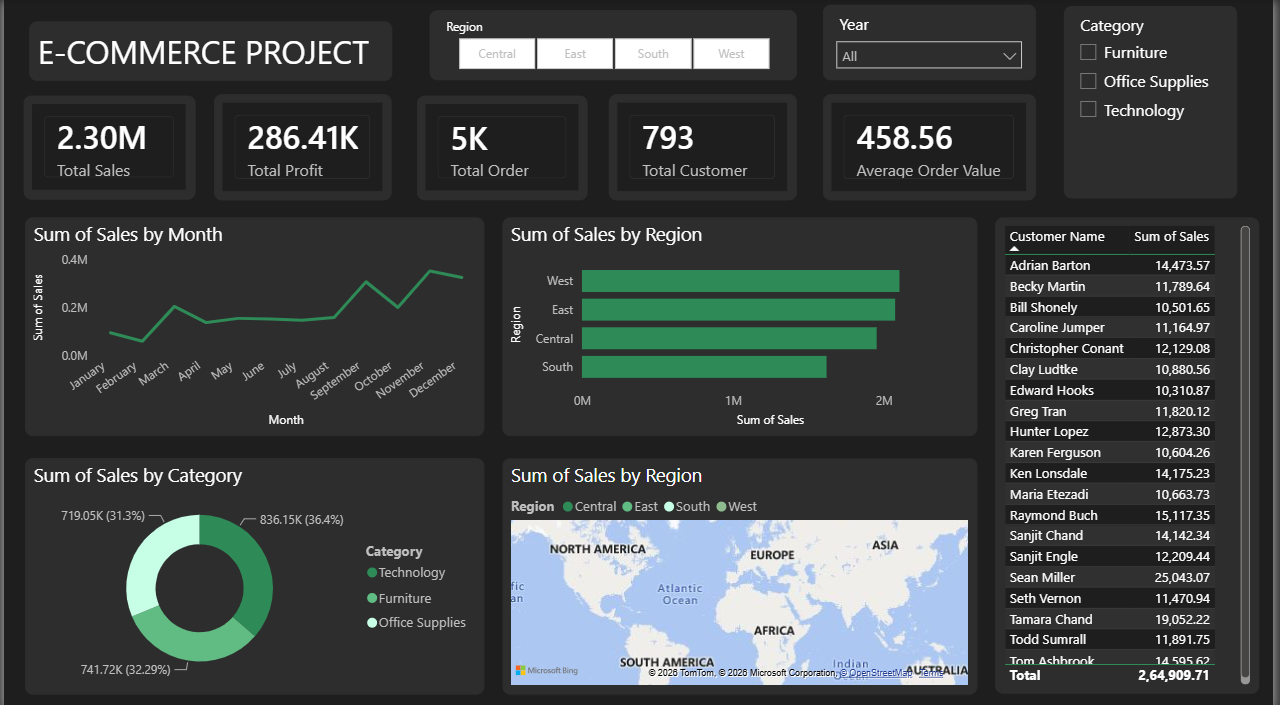

This screenshot's page, from the dashboard's own definition file:
{"tool":"powerbi","page":{"name":"Executive Overview","canvas":[1280,720],"ordinal":0},"visuals":[{"type":"cardVisual","fields":{"Data":["OrderTable.Total Sales"]},"box":[20.1,97.6,173.7,104.8],"z":0},{"type":"textbox","box":[25,22.1,366.2,60.3],"z":1},{"type":"cardVisual","fields":{"Data":["OrderTable.Total Profit"]},"box":[211.8,95.6,179.4,107.4],"z":2},{"type":"cardVisual","fields":{"Data":["OrderTable.Total Order"]},"box":[416.2,97.1,172.1,105.9],"z":3},{"type":"cardVisual","fields":{"Data":["OrderTable.Total Customer"]},"box":[610.3,95.6,189.7,107.4],"z":4},{"type":"lineChart","fields":{"Y":["Sum(OrderTable.Sales)"],"Category":["OrderTable.Order Date.Variation.Date Hierarchy.Month"]},"box":[20.6,220.6,463.2,220.6],"z":5},{"type":"clusteredBarChart","fields":{"Y":["Sum(OrderTable.Sales)"],"Category":["CustomerTable.Region"]},"box":[502.9,220.6,479.4,220.6],"z":6},{"type":"donutChart","fields":{"Y":["Sum(OrderTable.Sales)"],"Category":["OrderTable.Category"]},"box":[20.6,463.2,463.2,238.2],"z":7},{"type":"filledMap","fields":{"Series":["CustomerTable.Region"]},"box":[502.9,463.2,479.4,238.2],"z":8},{"type":"slicer","fields":{"Values":["CustomerTable.Region"]},"box":[429.4,11.8,370.6,70.6],"z":9},{"type":"slicer","fields":{"Values":["OrderTable.Order Date.Variation.Date Hierarchy.Year"]},"box":[826.5,5.9,214.7,76.5],"z":11},{"type":"cardVisual","fields":{"Data":["OrderTable.Average Order Value"]},"box":[826.5,95.6,214.7,107.4],"z":12},{"type":"slicer","fields":{"Values":["ProductTable.Category"]},"box":[1069.1,7.4,175,194.1],"z":13},{"type":"tableEx","fields":{"Values":["CustomerTable.Customer Name","Sum(OrderTable.Sales)"]},"box":[1000,220.6,266.2,480.9],"z":14}]}

Visuals, with their boxes in screenshot pixels (x1, y1, x2, y2), scaled from the page's 1280x720 canvas onto the 1280x705 screenshot:
cardVisual - OrderTable.Total Sales: BBox(20, 96, 194, 198)
textbox: BBox(25, 22, 391, 81)
cardVisual - OrderTable.Total Profit: BBox(212, 94, 391, 199)
cardVisual - OrderTable.Total Order: BBox(416, 95, 588, 199)
cardVisual - OrderTable.Total Customer: BBox(610, 94, 800, 199)
lineChart - Sum(OrderTable.Sales) x OrderTable.Order Date.Variation.Date Hierarchy.Month: BBox(21, 216, 484, 432)
clusteredBarChart - Sum(OrderTable.Sales) x CustomerTable.Region: BBox(503, 216, 982, 432)
donutChart - Sum(OrderTable.Sales) x OrderTable.Category: BBox(21, 454, 484, 687)
filledMap - CustomerTable.Region: BBox(503, 454, 982, 687)
slicer - CustomerTable.Region: BBox(429, 12, 800, 81)
slicer - OrderTable.Order Date.Variation.Date Hierarchy.Year: BBox(826, 6, 1041, 81)
cardVisual - OrderTable.Average Order Value: BBox(826, 94, 1041, 199)
slicer - ProductTable.Category: BBox(1069, 7, 1244, 197)
tableEx - CustomerTable.Customer Name x Sum(OrderTable.Sales): BBox(1000, 216, 1266, 687)
